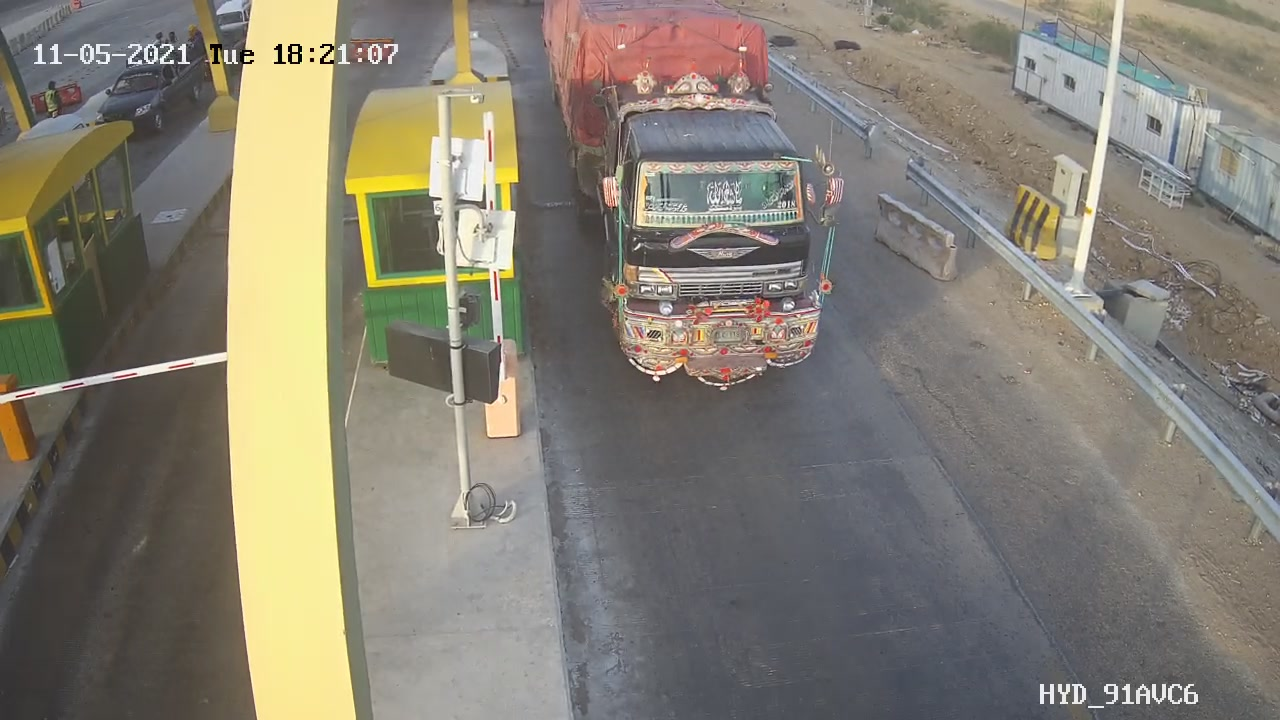F6: (530, 1, 855, 395)
